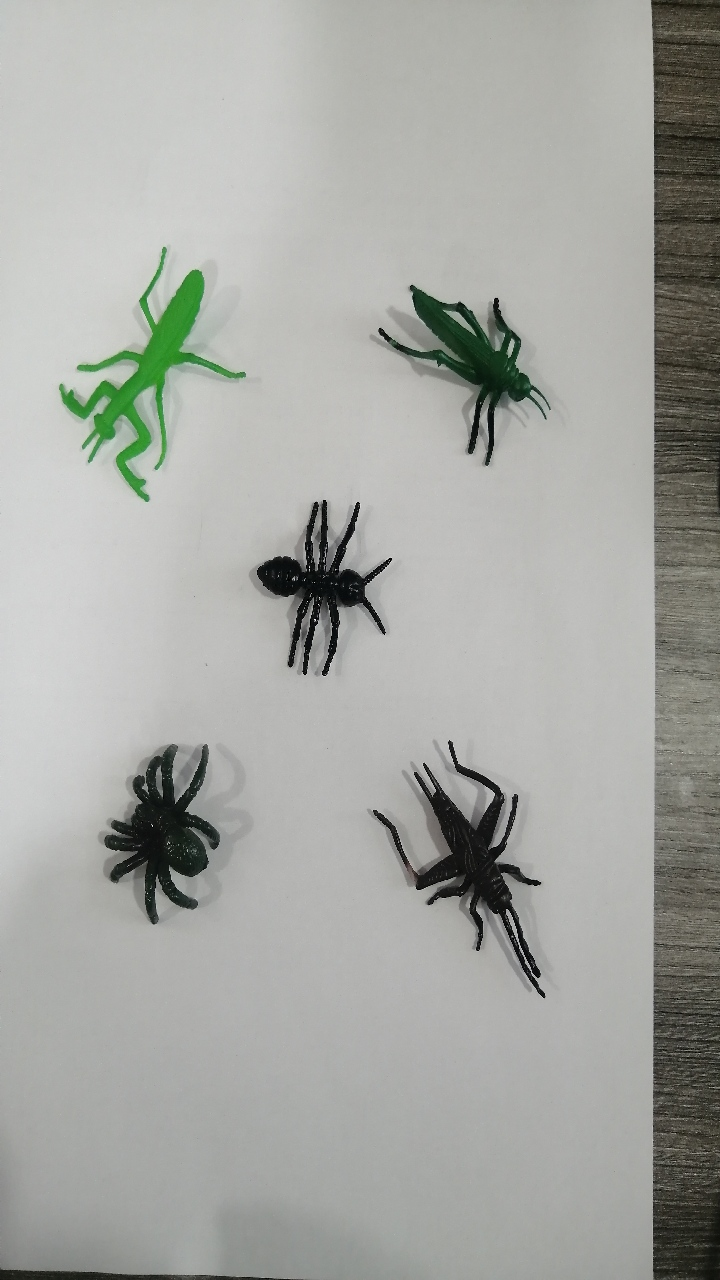intruso: (334, 706, 575, 1039), (26, 214, 260, 526), (358, 234, 577, 469), (72, 703, 258, 954), (231, 466, 414, 706)
